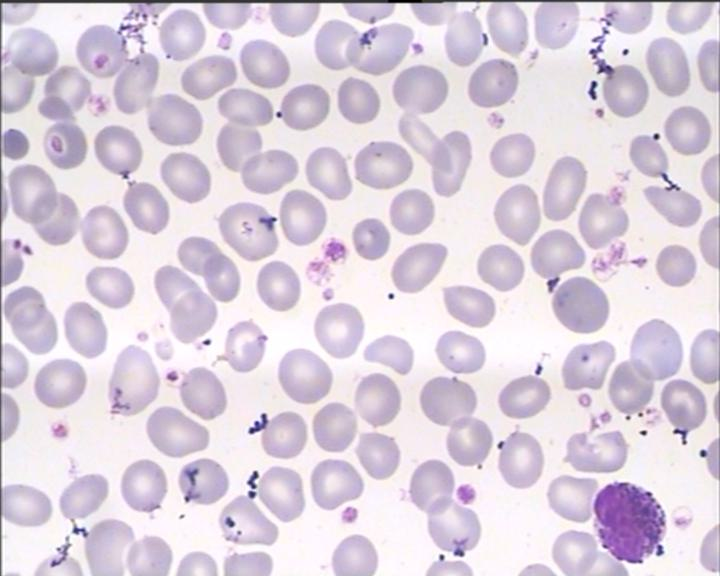baso: (592, 478, 673, 568)
